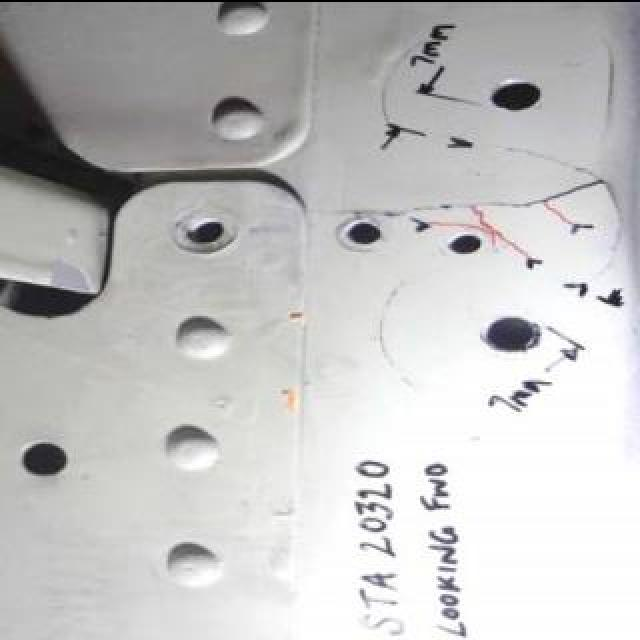crack: (301, 175, 617, 263), (489, 140, 633, 286)
